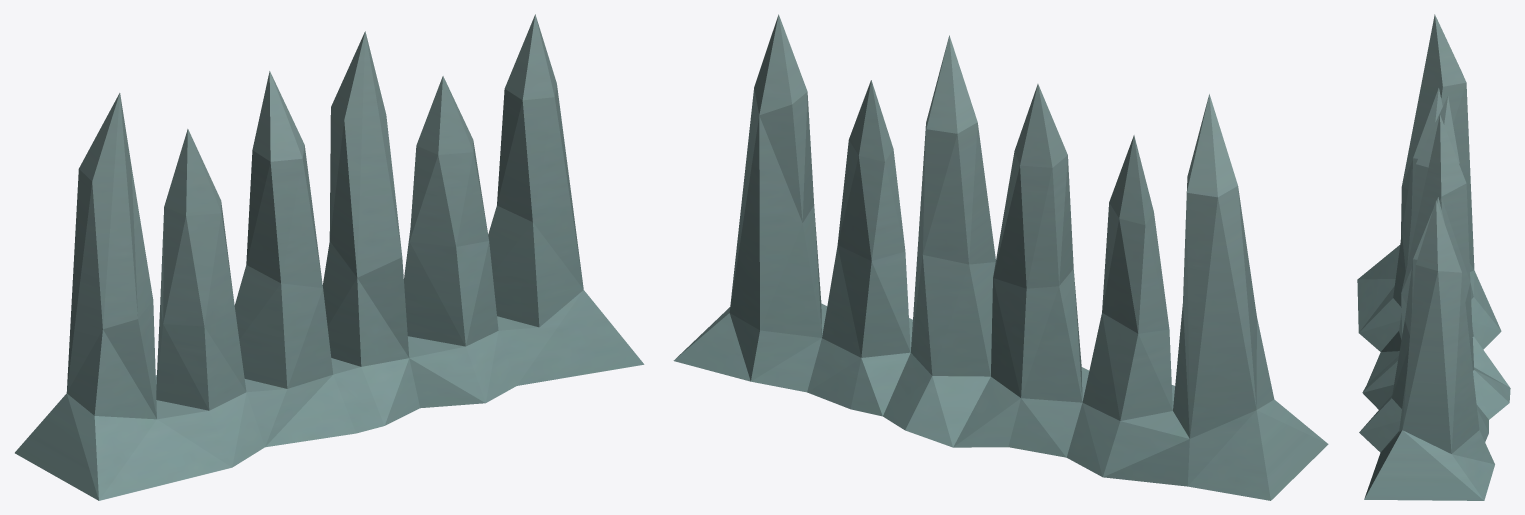
Rendered from icicle_joined.obj.
3 views of the same model, side by side, from view 1: azimuth 30°, elevation 25°; view 2: azimuth 150°, elevation 25°; view 3: azimuth 270°, elevation 25° (orthographic). The views are drawn at different scales.
Parts seen in each view (by area): view 1: icicle_joined; view 2: icicle_joined; view 3: icicle_joined.
Part boxes in pixels (x1=…): icicle_joined: x1=15, y1=14, x2=644, y2=500; icicle_joined: x1=673, y1=14, x2=1328, y2=500; icicle_joined: x1=1357, y1=14, x2=1510, y2=500.
Size of the model in its own units: 0.7539 by 0.4537 by 0.2137.
